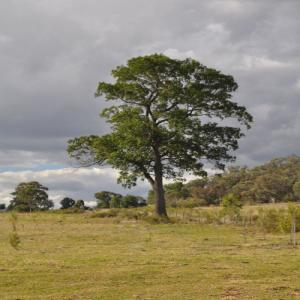Tree: (66, 52, 255, 220)
